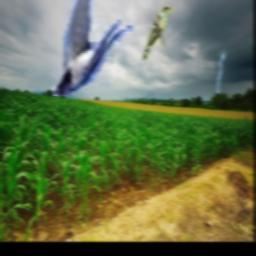Cuckoo: (143, 5, 174, 60)
Swallow: (53, 0, 138, 96)
